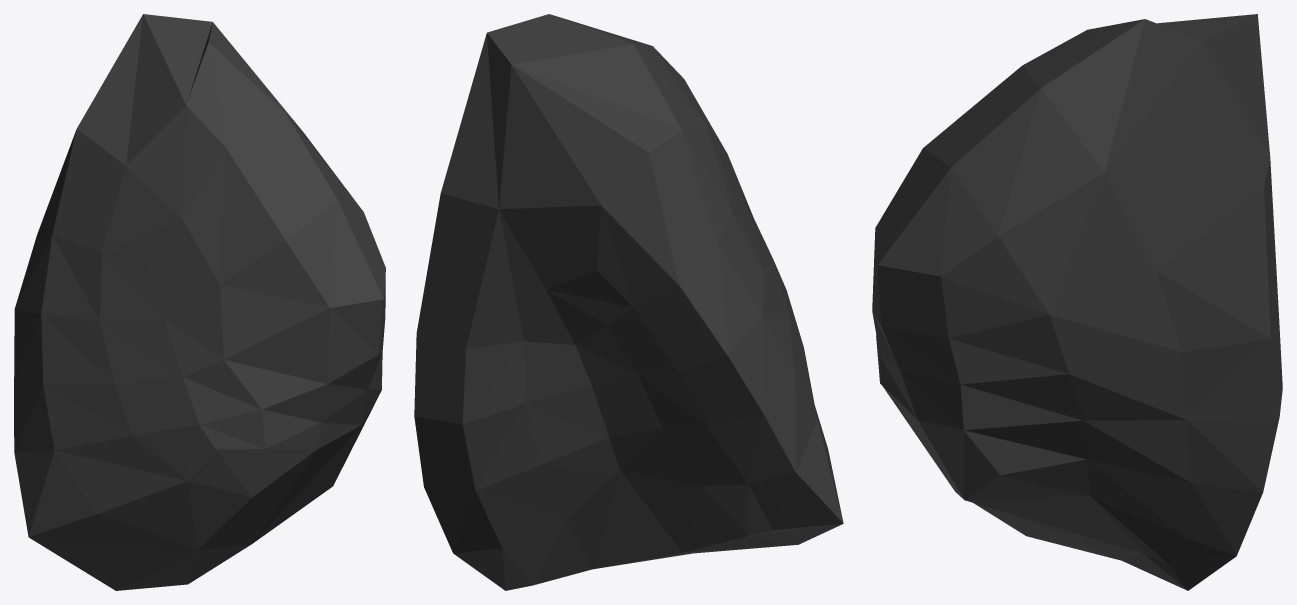
File: RFL_scapula_main2.glb
3 views of the same model, side by side, from view 1: azimuth 30°, elevation 25°; view 2: azimuth 150°, elevation 25°; view 3: azimuth 270°, elevation 25° (orthographic). The views are drawn at different scales.
Parts seen in each view (by area): view 1: RFL_scapula_main2; view 2: RFL_scapula_main2; view 3: RFL_scapula_main2.
Boxes of the visible parts, <box> form: RFL_scapula_main2: <box>14,14,385,590</box>; RFL_scapula_main2: <box>414,14,843,590</box>; RFL_scapula_main2: <box>872,14,1282,590</box>.
Bounding box in the file's own units: 6.24 × 9.08 × 6.02.
1 material, 1 textured.
